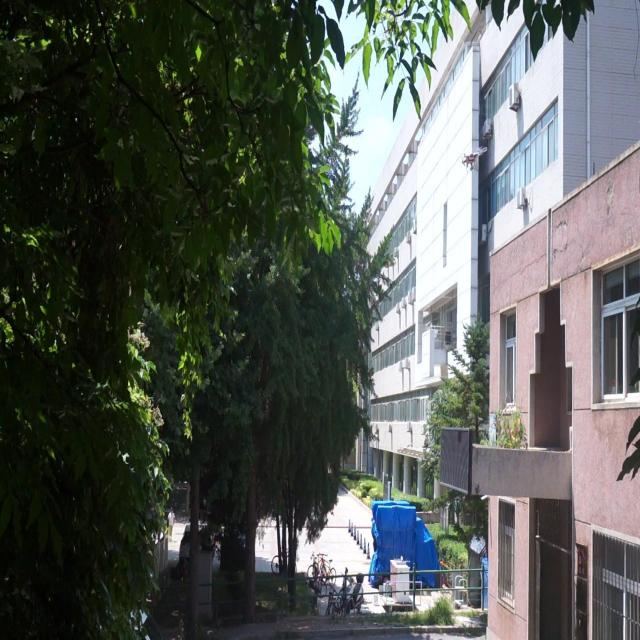UAV: (459, 145, 488, 174)
